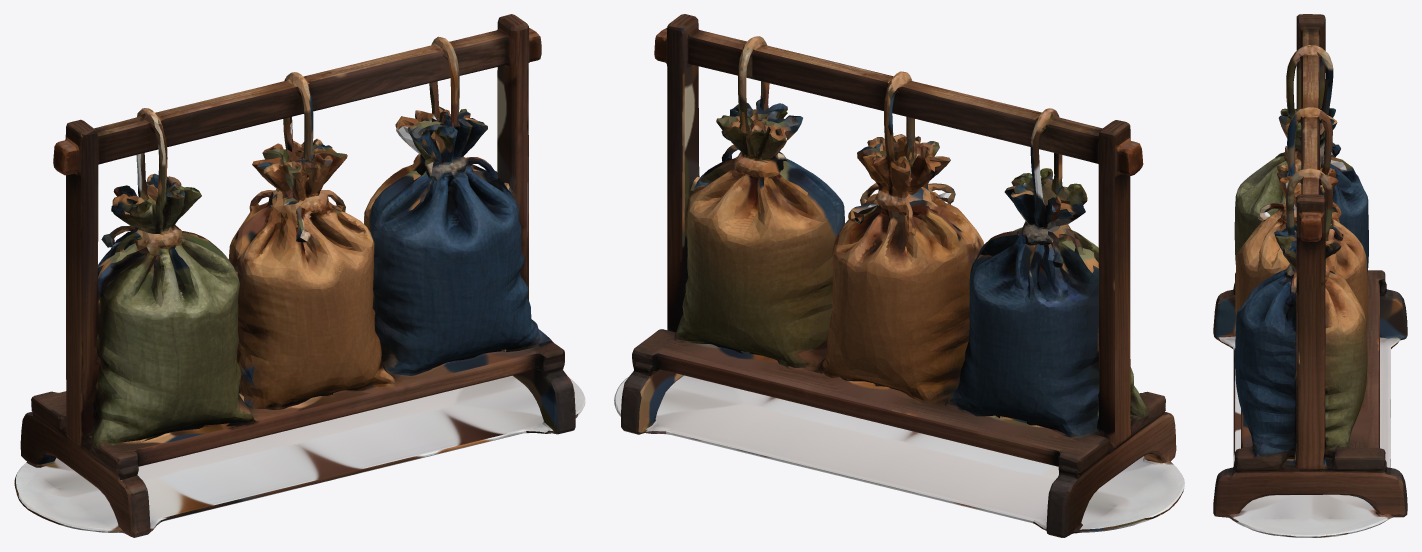
Rendered from beiden_cave_bandit_sack_rack.glb.
3 renders of one model, left to right at view 1: azimuth 30°, elevation 25°; view 2: azimuth 150°, elevation 25°; view 3: azimuth 270°, elevation 25°, orthographic. The views are drawn at different scales.
Visible parts, largest first — view 1: temp_mesh.ply; view 2: temp_mesh.ply; view 3: temp_mesh.ply.
Boxes of the visible parts, x1=… form: temp_mesh.ply: x1=14, y1=14, x2=585, y2=537; temp_mesh.ply: x1=614, y1=14, x2=1184, y2=537; temp_mesh.ply: x1=1213, y1=14, x2=1407, y2=537.
Size of the model in its own units: 1.97 by 1.3 by 0.7181.
Materials: 1 (1 with a texture image).
